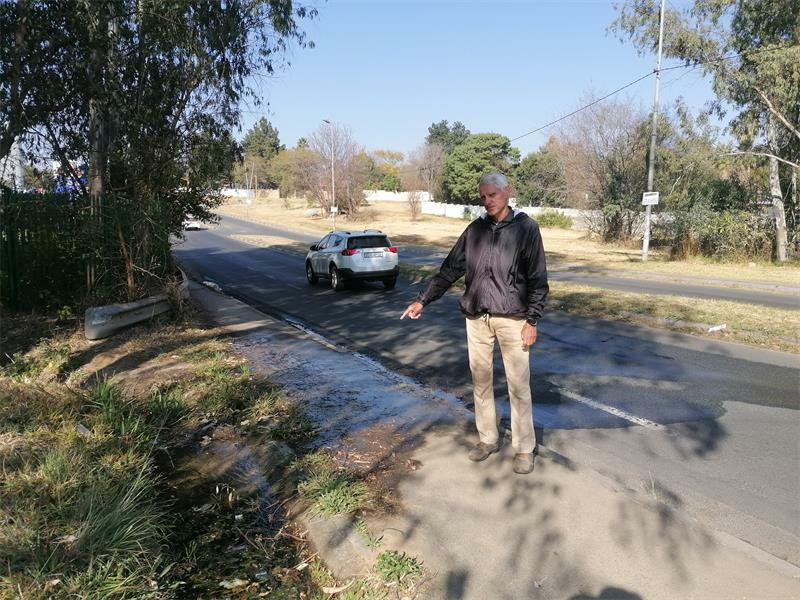water_leak: (187, 262, 340, 566)
